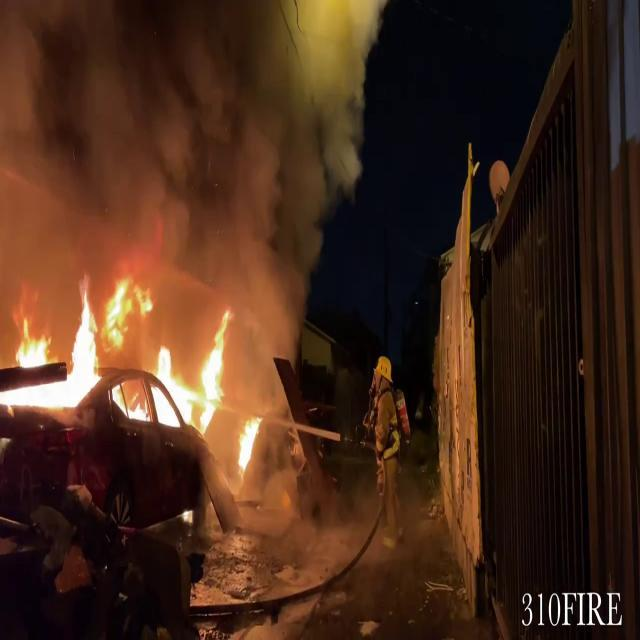Fire: (2, 270, 246, 438), (234, 412, 264, 474)
Smoke: (0, 0, 369, 332)
